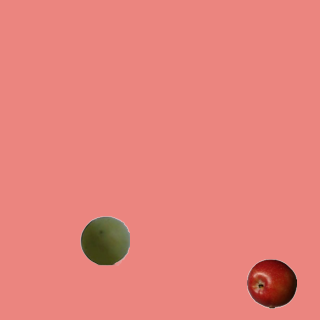Apple Braeburn: (246, 258, 296, 308)
Grape White 4: (79, 215, 129, 265)
